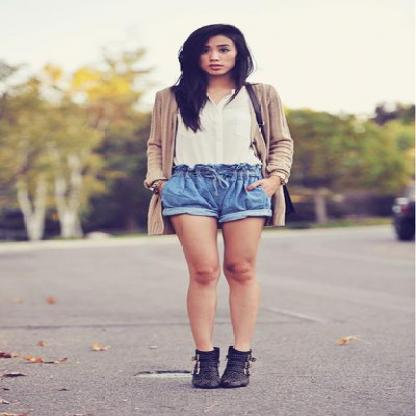jacket: (133, 83, 303, 234)
shirt: (175, 91, 263, 179)
shoe: (162, 346, 255, 388)
shorts: (149, 160, 285, 226)
